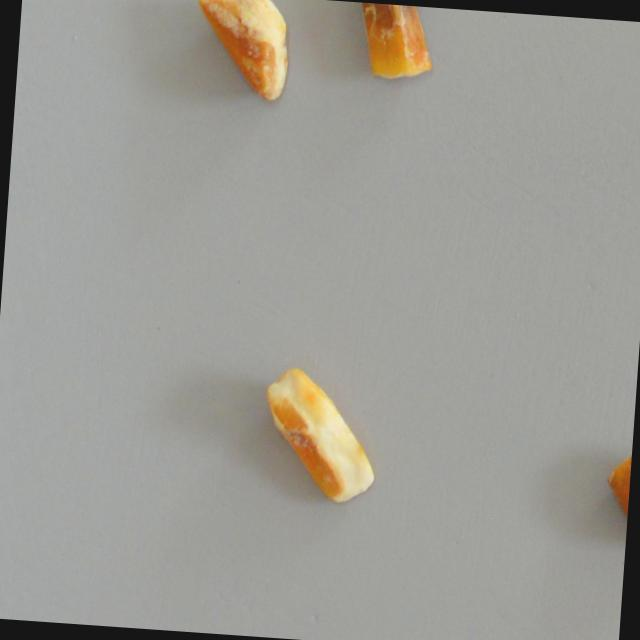dañado: (252, 359, 385, 514), (185, 0, 297, 112), (344, 1, 440, 88), (598, 440, 632, 550)
